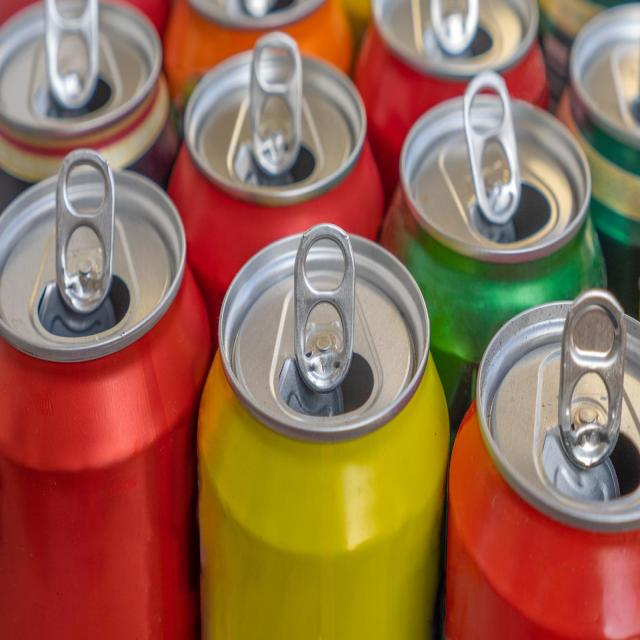can: (200, 224, 447, 640), (0, 180, 197, 640), (451, 299, 640, 640), (383, 94, 608, 346), (169, 48, 384, 268), (0, 0, 173, 179), (44, 0, 102, 114)
pop tab: (560, 283, 626, 469), (293, 212, 356, 397), (462, 63, 526, 224), (56, 148, 112, 319), (247, 29, 304, 175)
